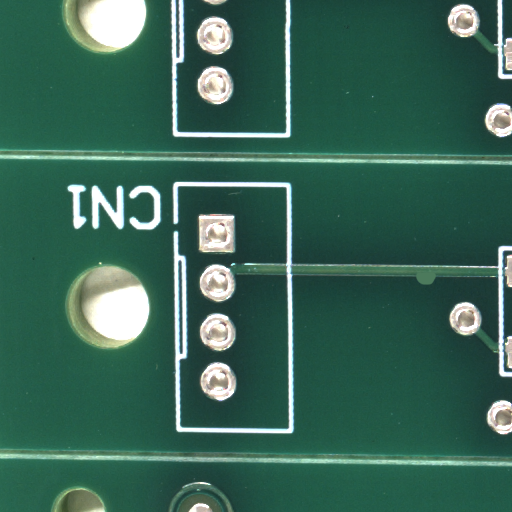Spur: (425, 279, 448, 291)
